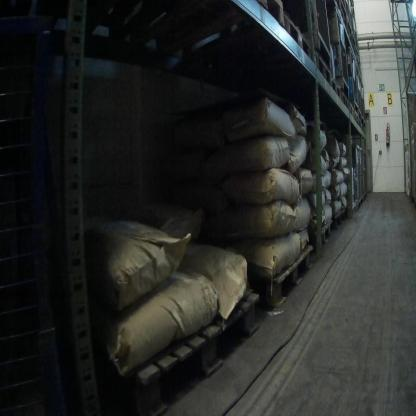pallet: (248, 245, 314, 312)
